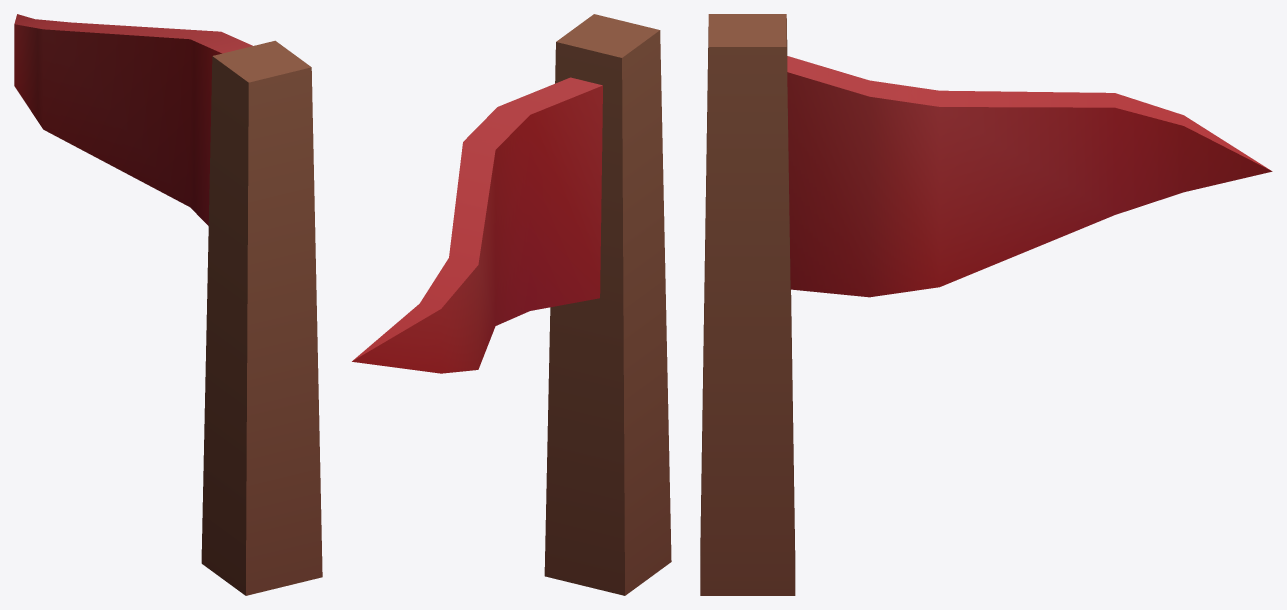
File: H_flag_red.glb
3 views of the same model, side by side, from view 1: azimuth 30°, elevation 25°; view 2: azimuth 150°, elevation 25°; view 3: azimuth 270°, elevation 25° (orthographic). The views are drawn at different scales.
Parts seen in each view (by area): view 1: flag_red; view 2: flag_red; view 3: flag_red.
Boxes of the visible parts, <box> form: flag_red: <box>14,14,322,595</box>; flag_red: <box>352,14,671,595</box>; flag_red: <box>700,14,1272,595</box>.
Size of the model in its own units: 0.055 by 0.2775 by 0.264.
